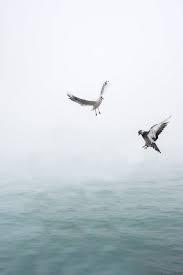bird: (58, 75, 119, 121), (129, 105, 174, 161)
